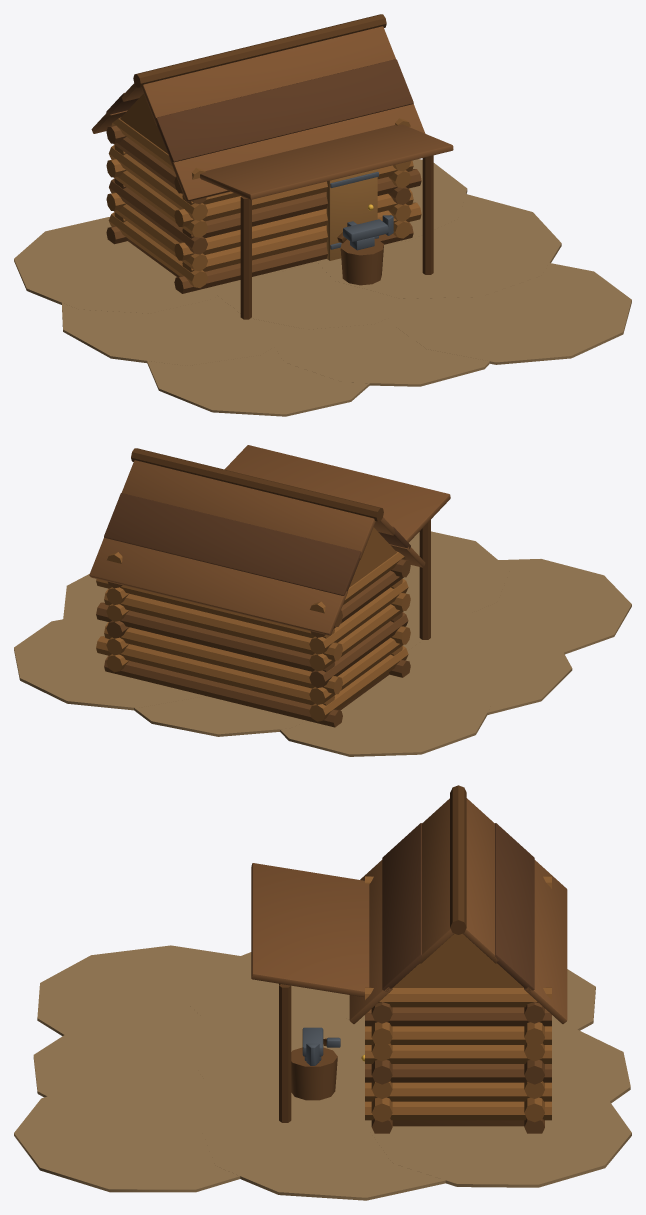
Rendered from kuznia_poz01.glb.
3 renders of one model, top to bottom at view 1: azimuth 30°, elevation 25°; view 2: azimuth 150°, elevation 25°; view 3: azimuth 270°, elevation 25°, orthographic. The views are drawn at different scales.
Visible parts, largest first — view 1: kuznia_poz01; view 2: kuznia_poz01; view 3: kuznia_poz01.
Boxes of the visible parts, x1=… form: kuznia_poz01: x1=14, y1=14, x2=631, y2=416; kuznia_poz01: x1=14, y1=445, x2=631, y2=756; kuznia_poz01: x1=14, y1=785, x2=631, y2=1200.
Size of the model in its own units: 8.84 by 3.52 by 8.92.
